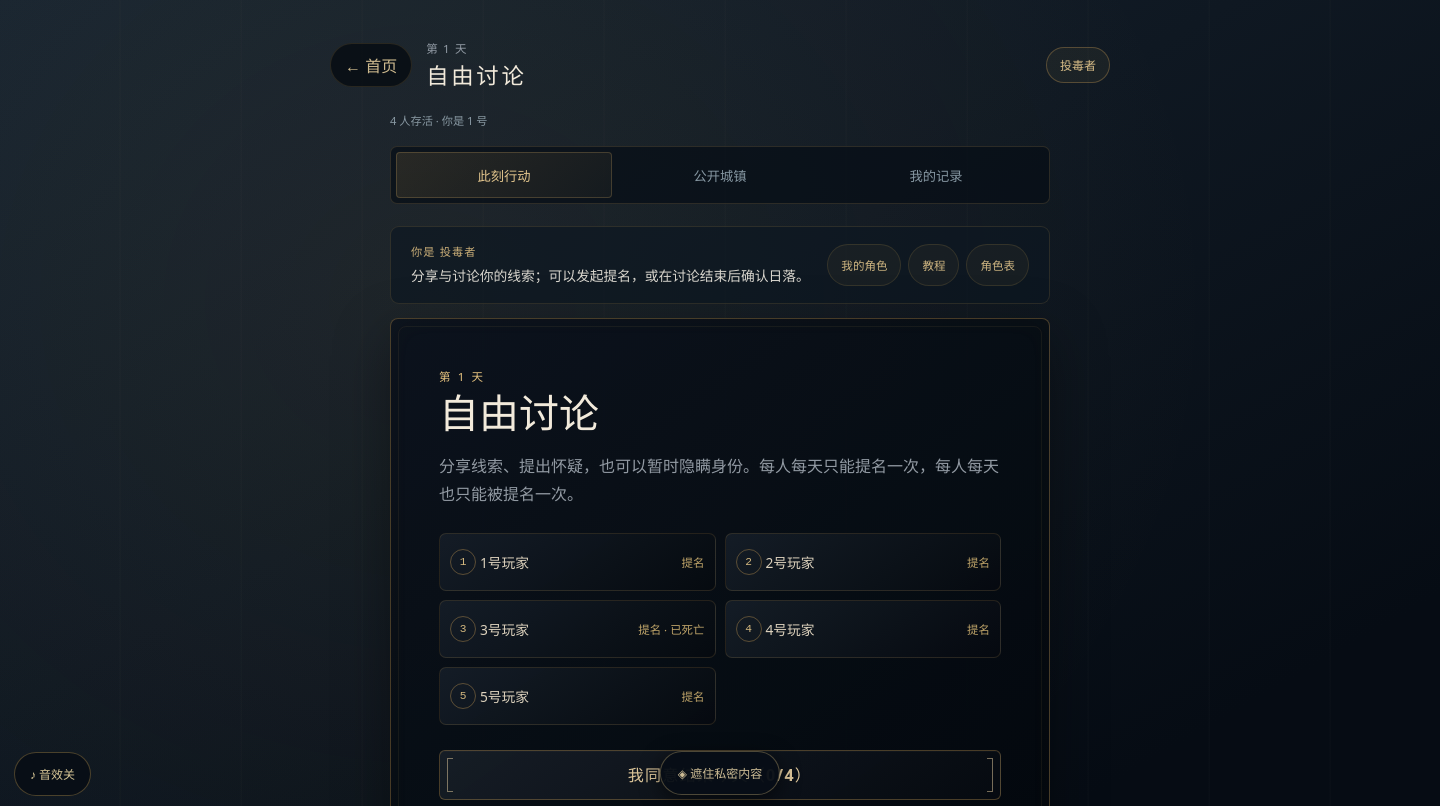
Test case: in-person players have the complete town and can inspect a dead player's ghost vote
Click the button "公开城镇": x=720, y=175 [612,152,828,198]
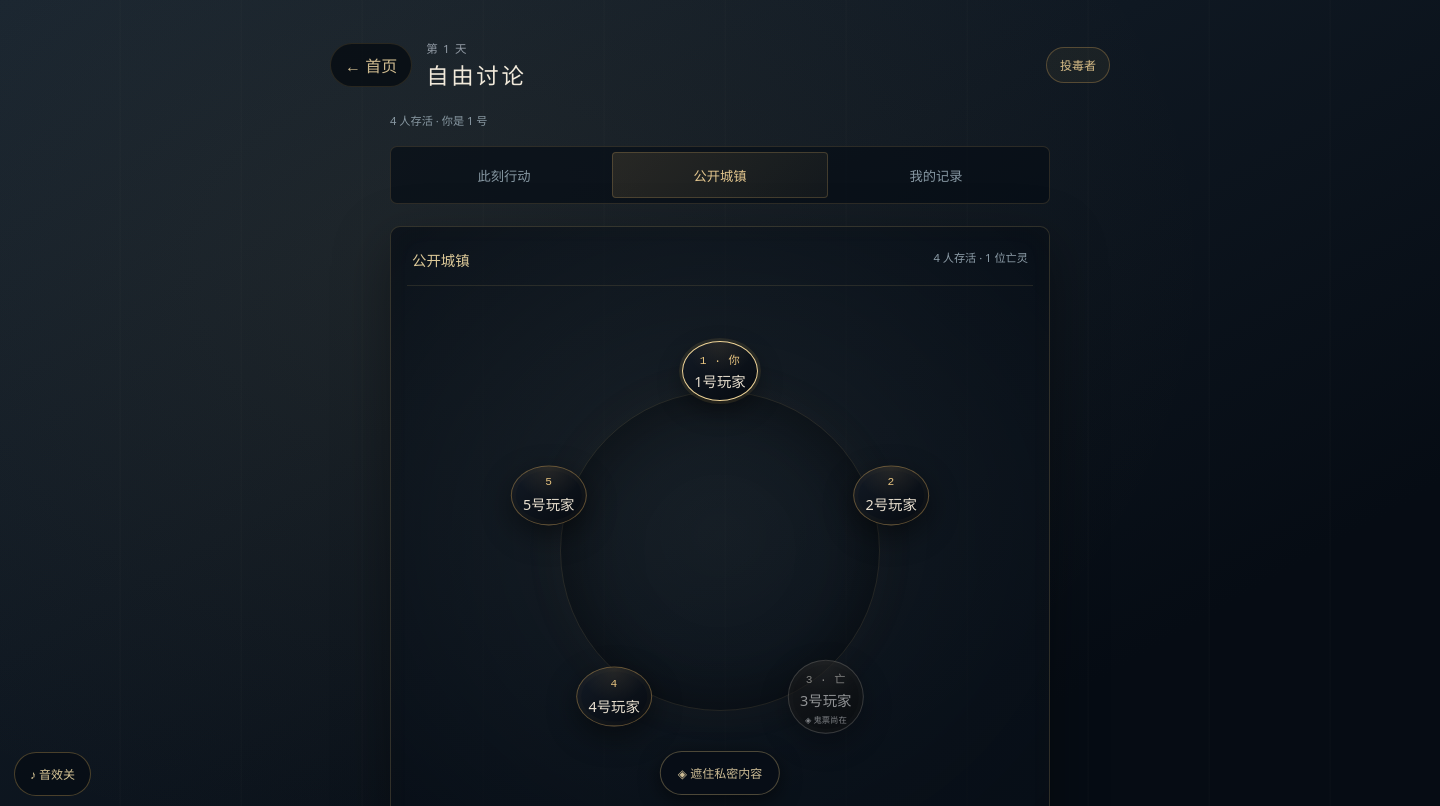
Click the button with aria-label "3号 3号玩家 已死亡": x=826, y=690 [798,668,854,712]
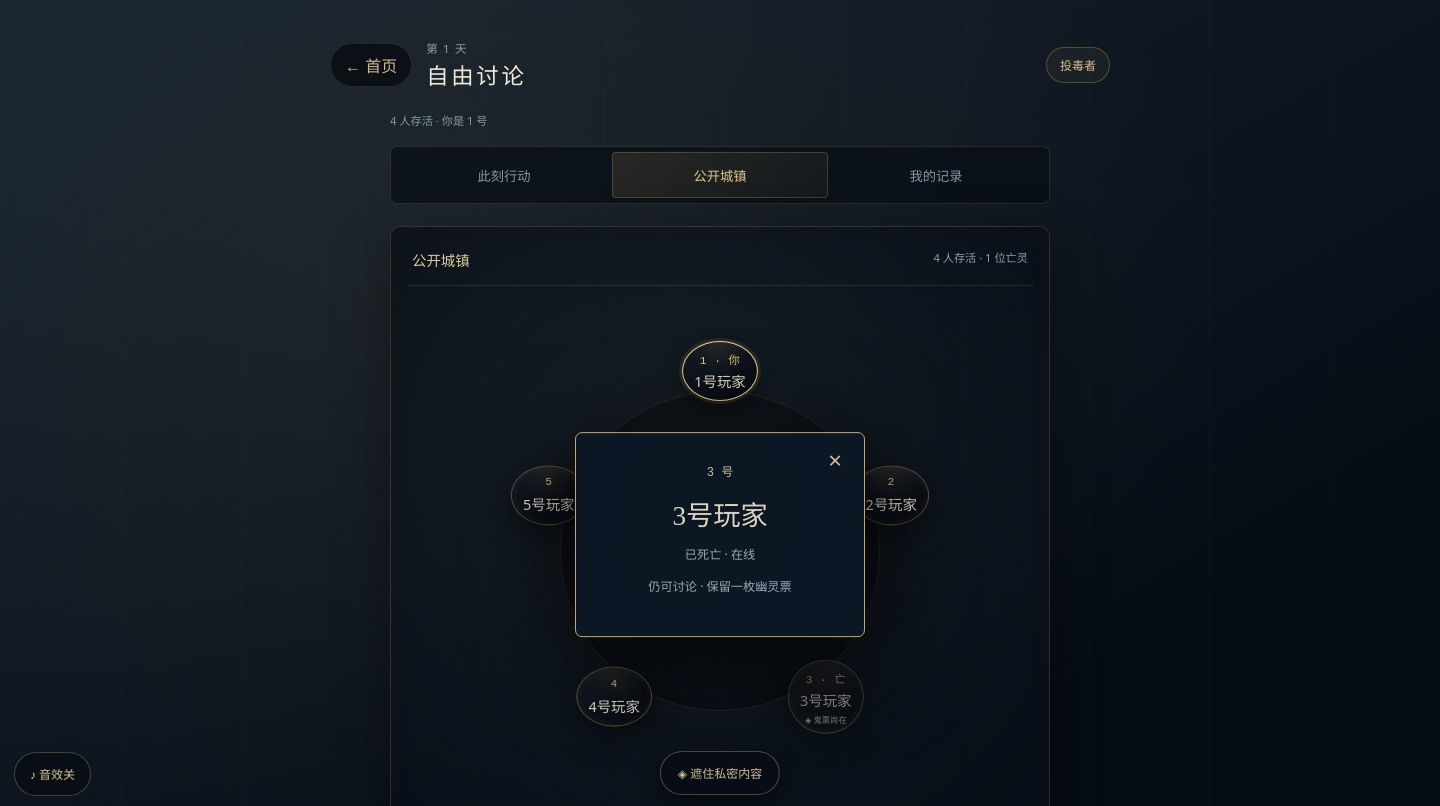
Expected: the text "仍可讨论 · 保留一枚幽灵票" is shown, [648,579,792,596]
